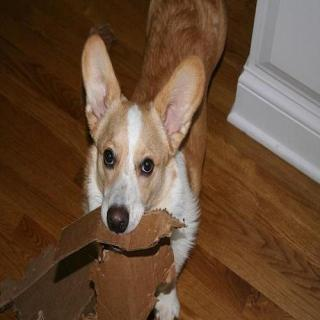dog: (78, 27, 208, 266)
nose: (103, 200, 131, 237)
